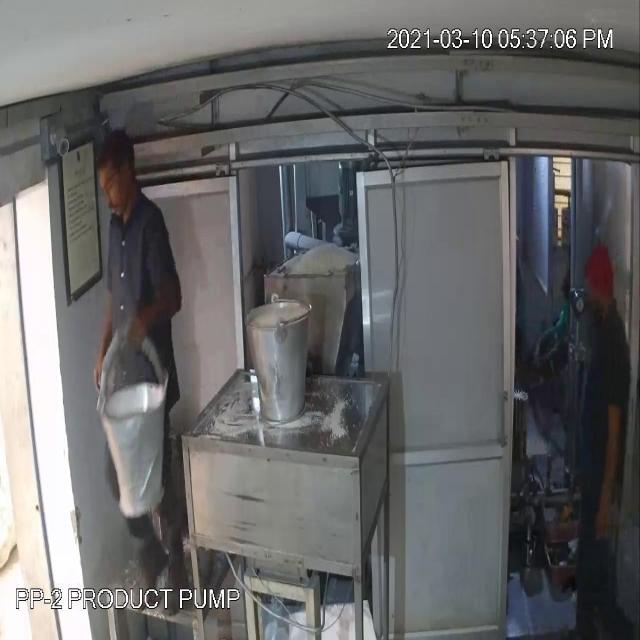No_Gloves: (44, 70, 606, 475)
